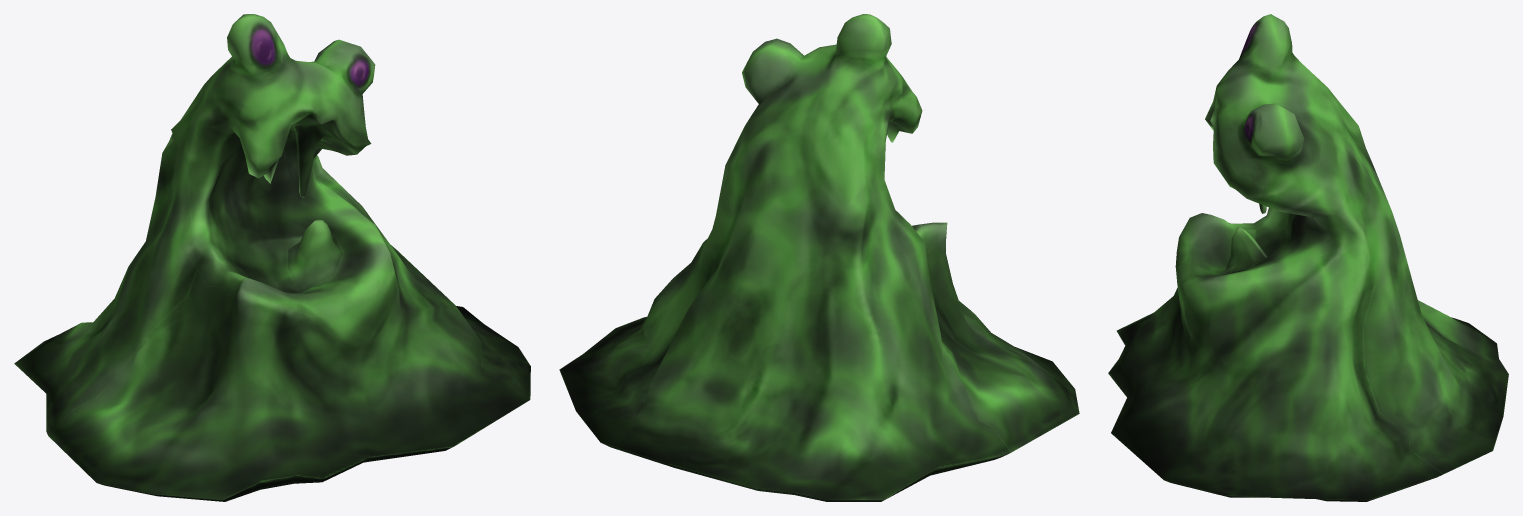
File: Oozey_glb.glb
The picture shows the model from 3 angles, left to right: view 1: azimuth 30°, elevation 25°; view 2: azimuth 150°, elevation 25°; view 3: azimuth 270°, elevation 25°; orthographic projection. The views are drawn at different scales.
Visible parts, largest first — view 1: Oozey; view 2: Oozey; view 3: Oozey.
Part boxes in pixels (<box>): Oozey: <box>14,14,530,501</box>; Oozey: <box>559,14,1079,501</box>; Oozey: <box>1108,14,1508,501</box>.
Bounding box in the file's own units: 6.92 × 5.85 × 5.74.
Materials: 1 (1 with a texture image).
